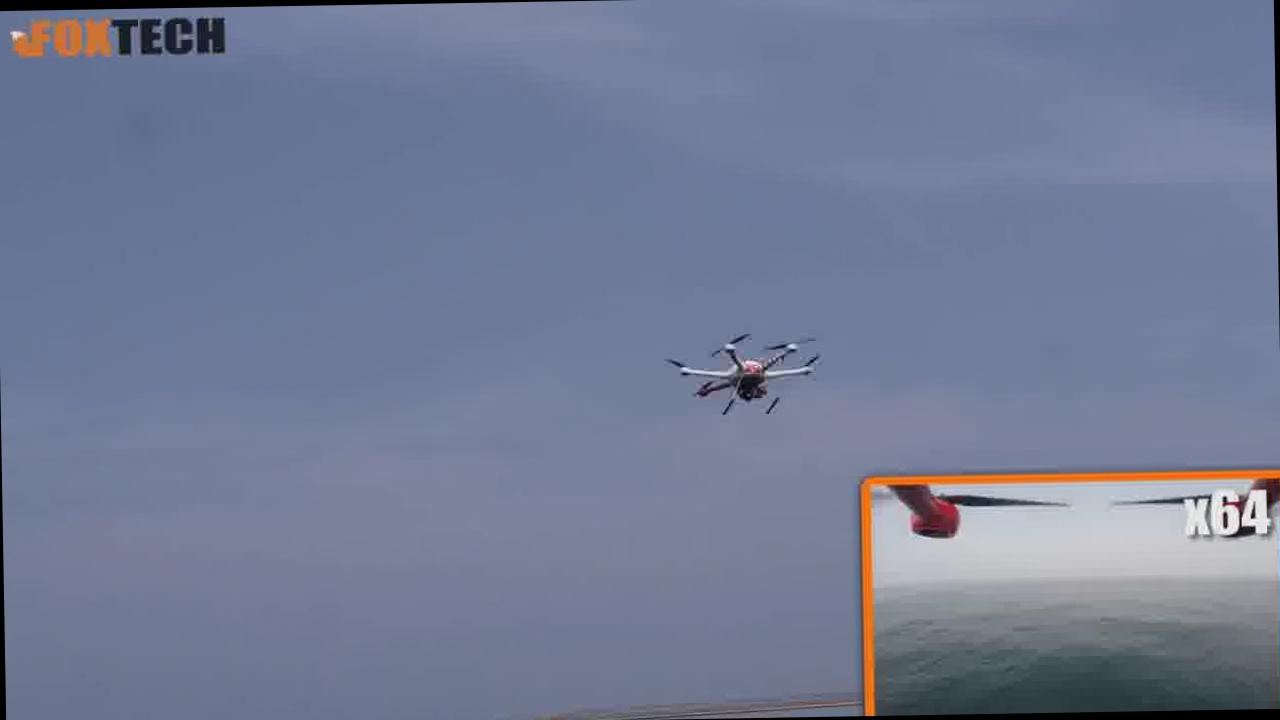drone: (644, 318, 834, 430)
